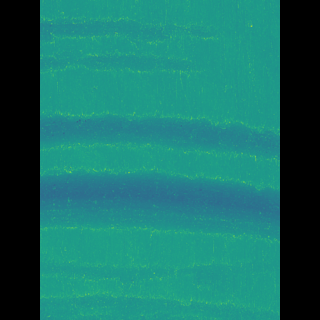Loch: (68, 169, 248, 238), (68, 253, 247, 320), (69, 8, 204, 86), (69, 109, 250, 159)
